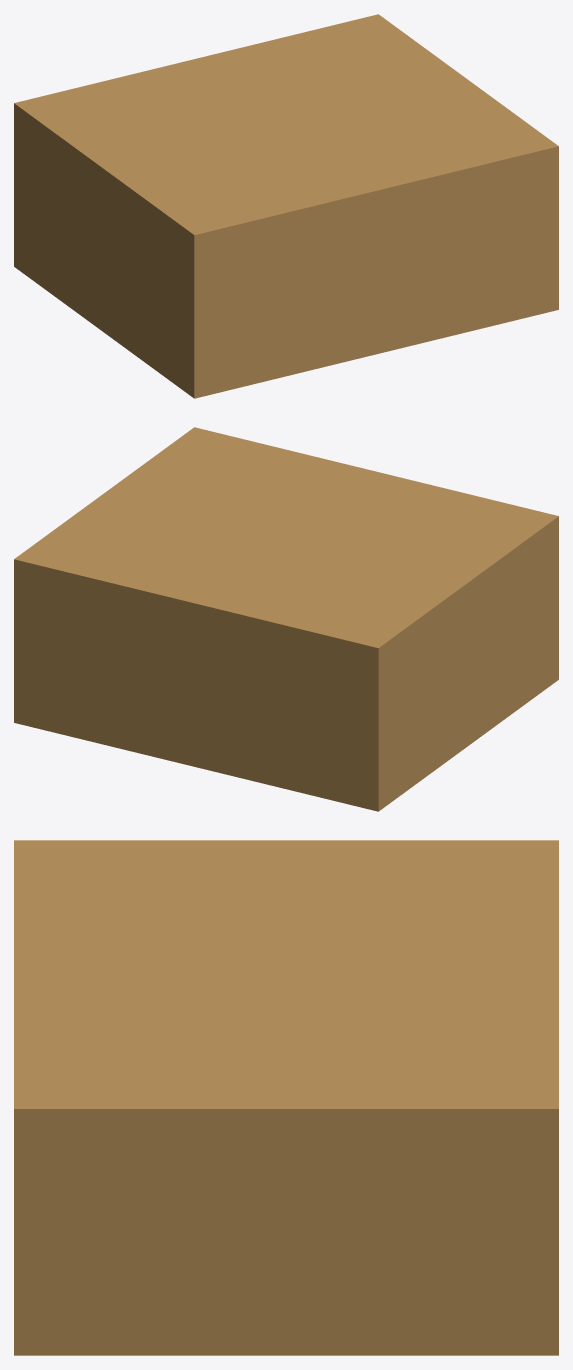
3 views of the same model, one above another, from view 1: azimuth 30°, elevation 25°; view 2: azimuth 150°, elevation 25°; view 3: azimuth 270°, elevation 25° (orthographic). The views are drawn at different scales.
Parts seen in each view (by area): view 1: __delivery_mesh_6652; view 2: __delivery_mesh_6652; view 3: __delivery_mesh_6652.
Part boxes in pixels (box(x1,y1,x2,y2)): __delivery_mesh_6652: box(14, 14, 558, 398); __delivery_mesh_6652: box(14, 427, 558, 811); __delivery_mesh_6652: box(14, 840, 558, 1355).
Bounding box in the file's own units: 0.105 × 0.045 × 0.09.
